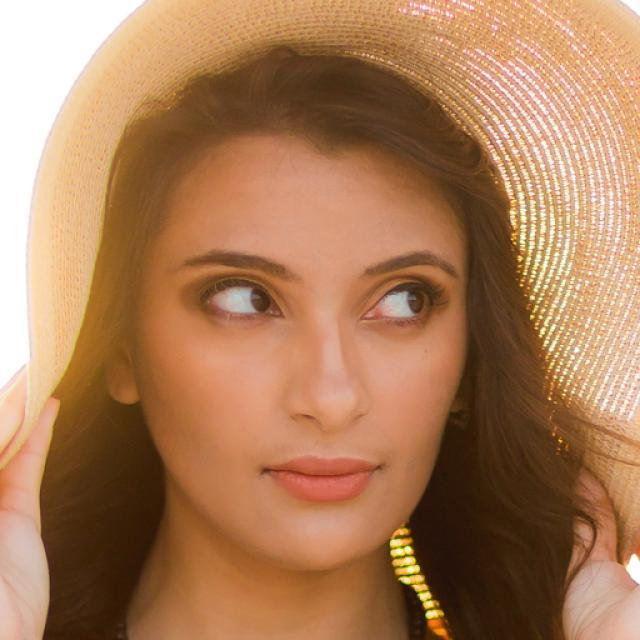neutral: (135, 134, 468, 572)
